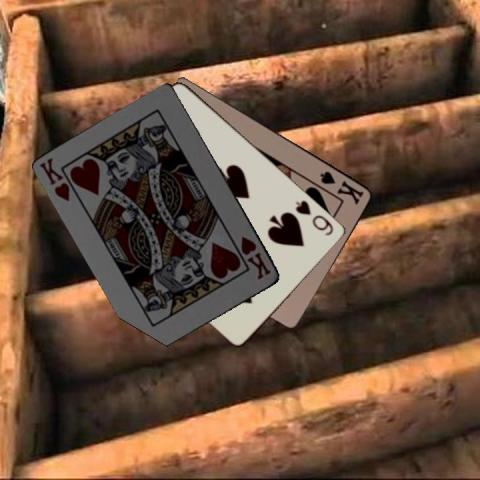6s: (293, 197, 335, 237)
Kh: (238, 234, 273, 282), (37, 155, 72, 203)
Ks: (317, 168, 366, 206)
